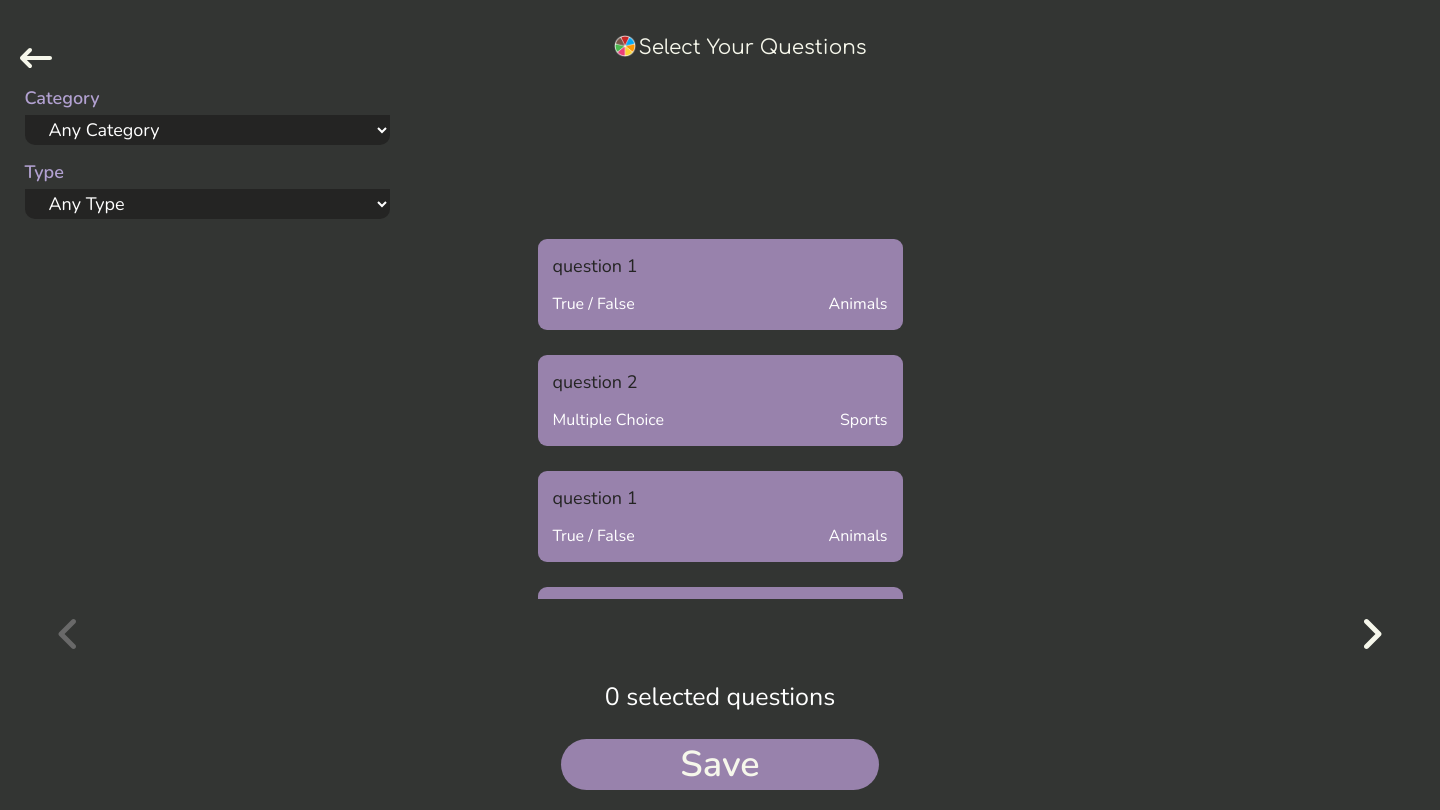
Test case: Given a SelectYourQuestionsComponent › When the allQuestions array is longer than 20 questions and the right arrow is pressed and then the left arrow is pressed › Then it should only render questions from index 0 to 20, then from index 20 to 40 and then again from index 0 to 20
Step 1. Click the button with test id "pageArrow" → (1372, 634), box [1353,613,1390,655]
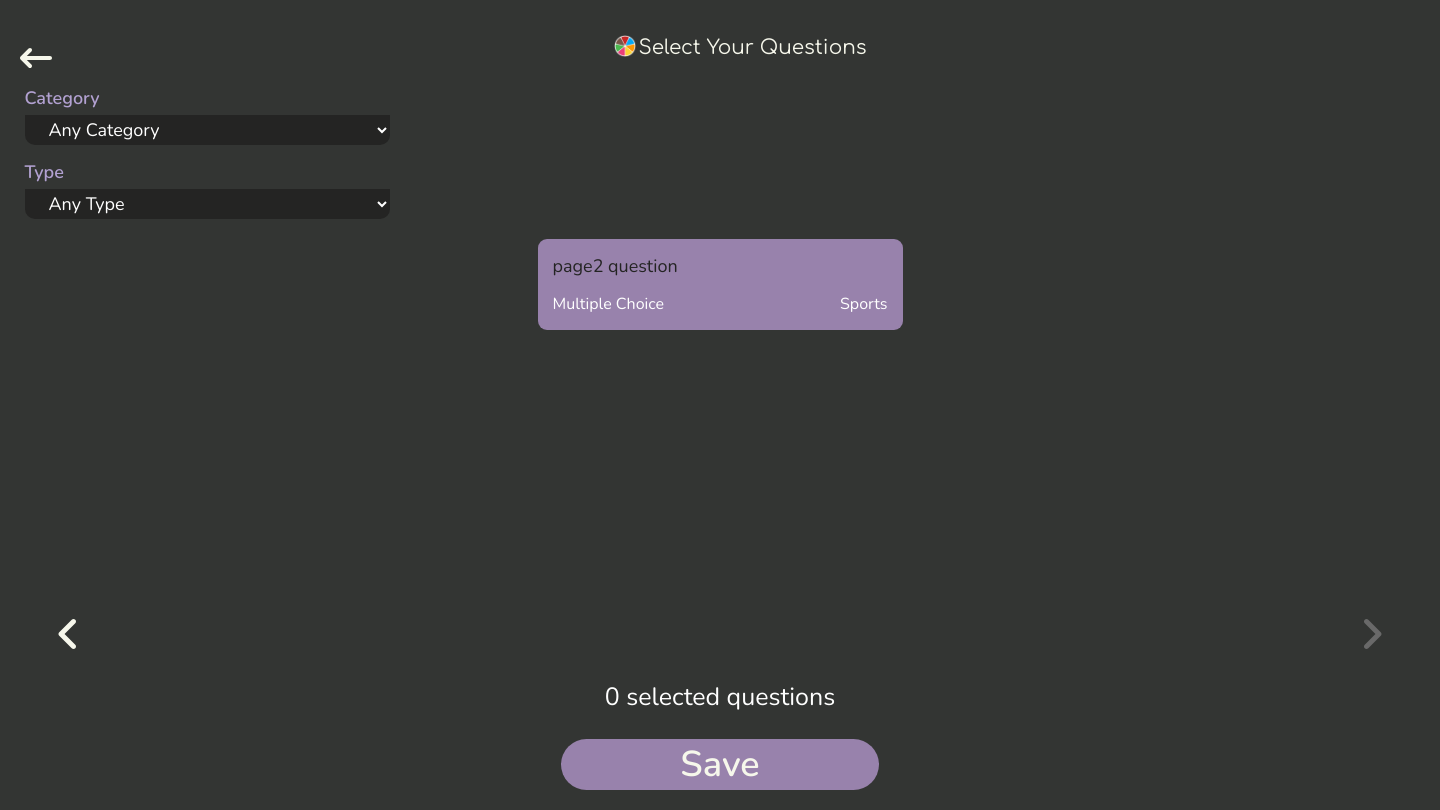
Expected: the text "page2 question" is shown, [552,254,678,278]
Step 2. Click the button with test id "pageArrow" → (68, 634), box [50,613,87,655]
(page scrolled)
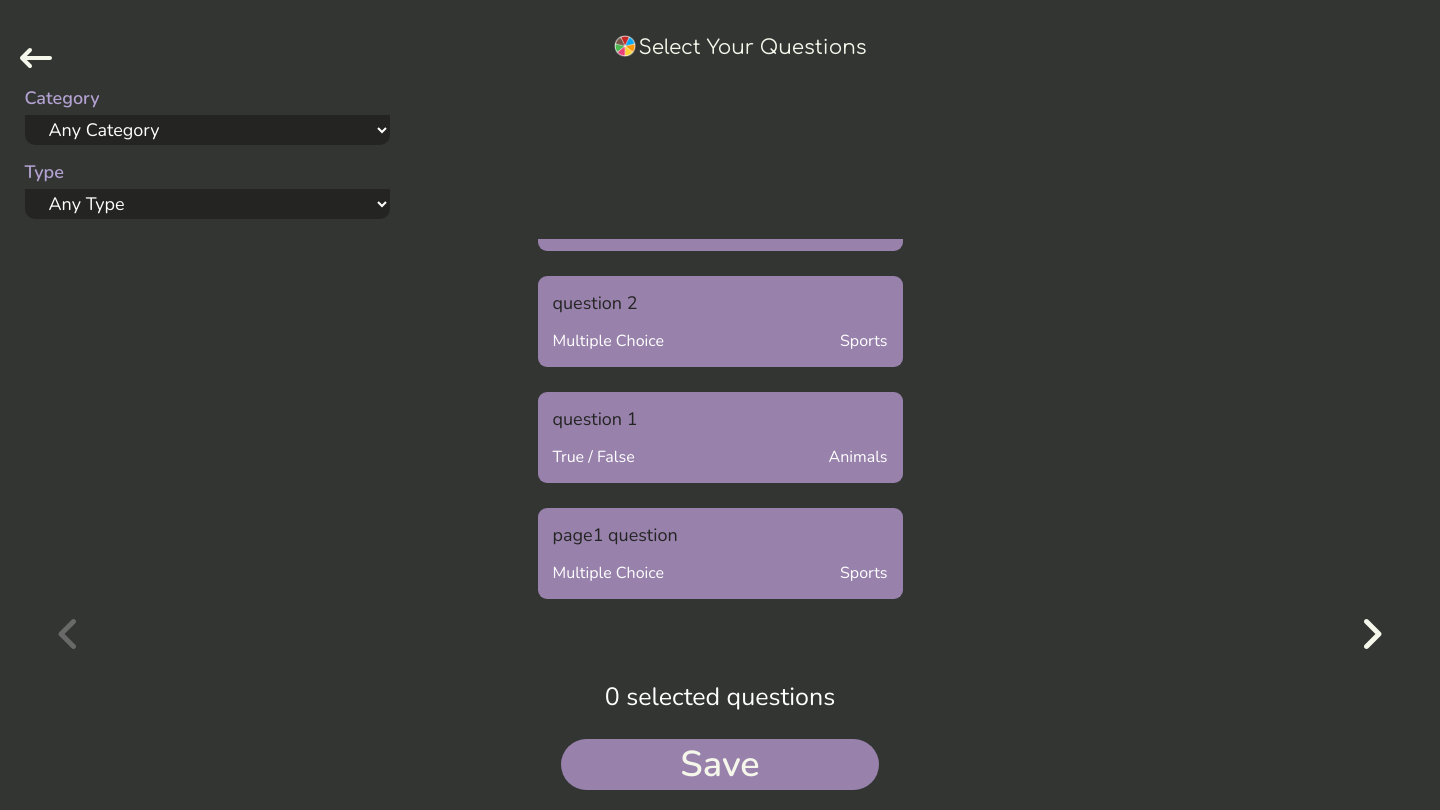
Expected: the text "page1 question" is shown, [552,523,678,547]
